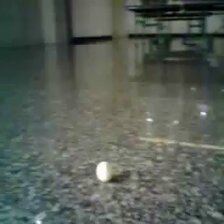w: (96, 161, 113, 182)
